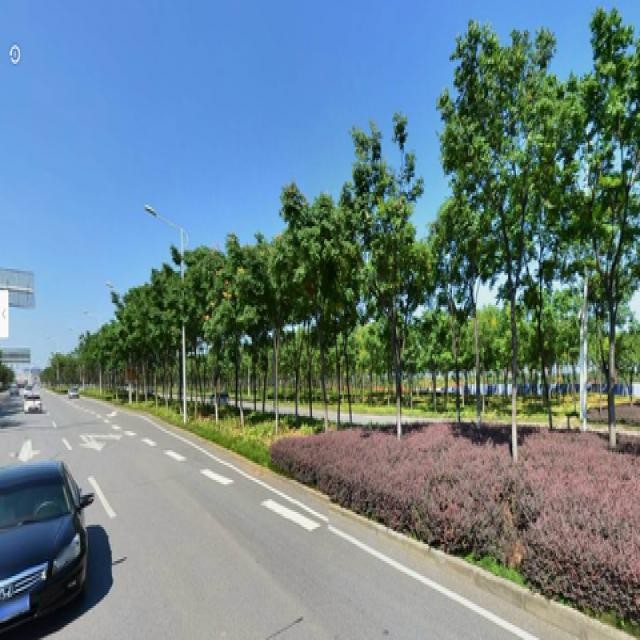koel: (445, 34, 551, 444), (355, 138, 417, 440), (286, 205, 338, 431)
